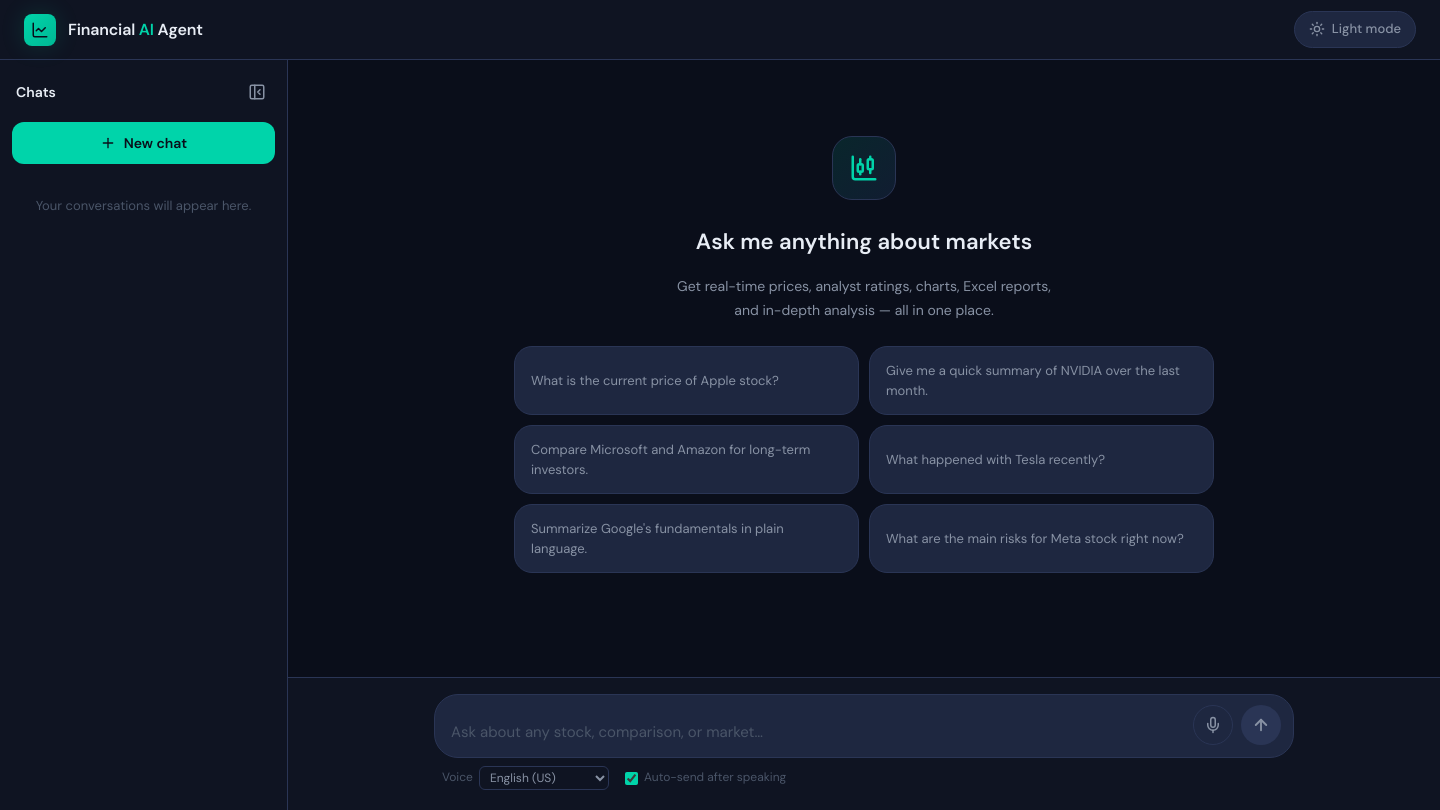
Test: voice input › does not auto-send after an error, but keeps the text
Click the button named "Voice input". click: coordinates (1213, 725)
box: 1193,705 -> 1233,745
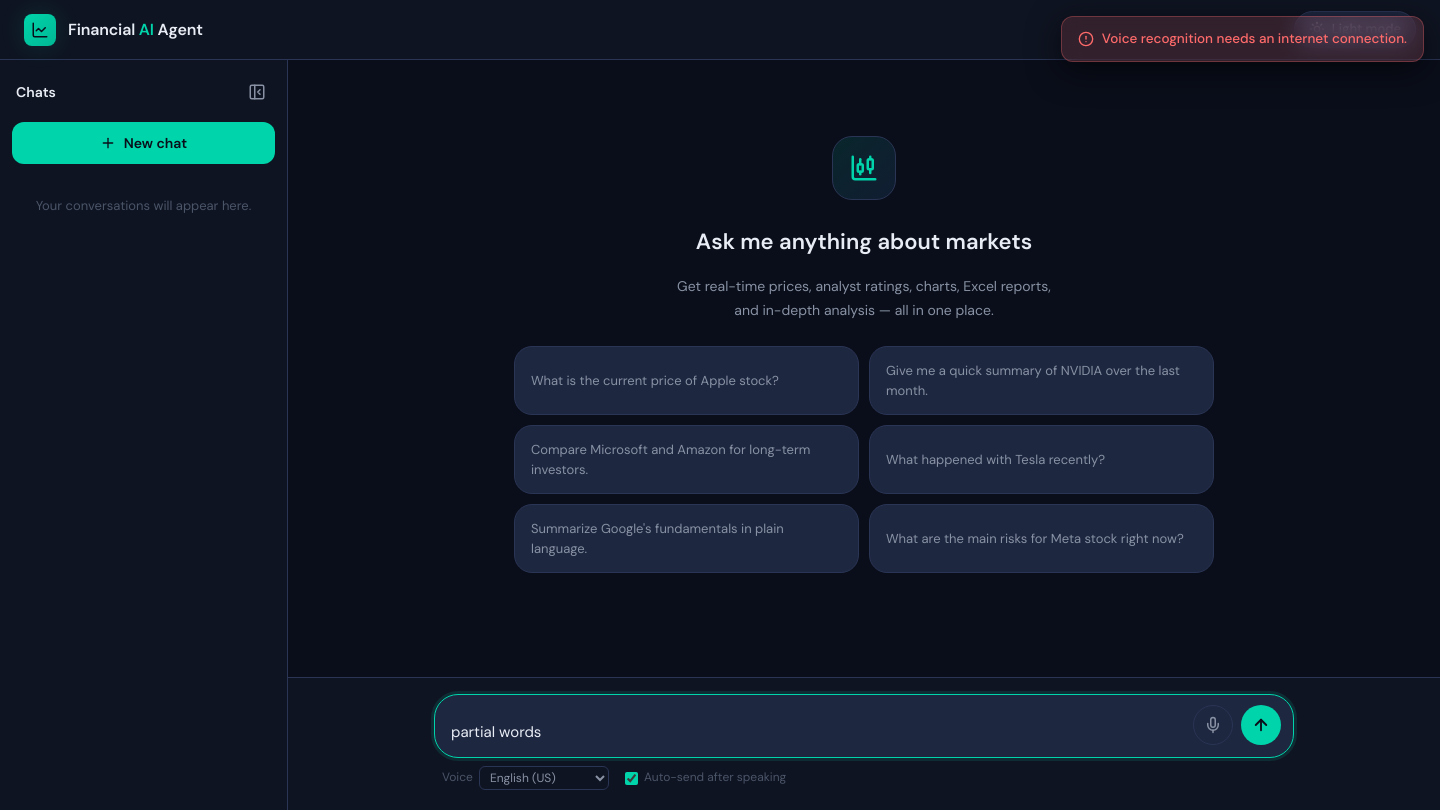
Result: the text "Voice recognition needs an internet connection." is shown at 1102,28 -> 1407,50
Result: the text box named "Message" holds "partial words" at 447,716 -> 1183,747
